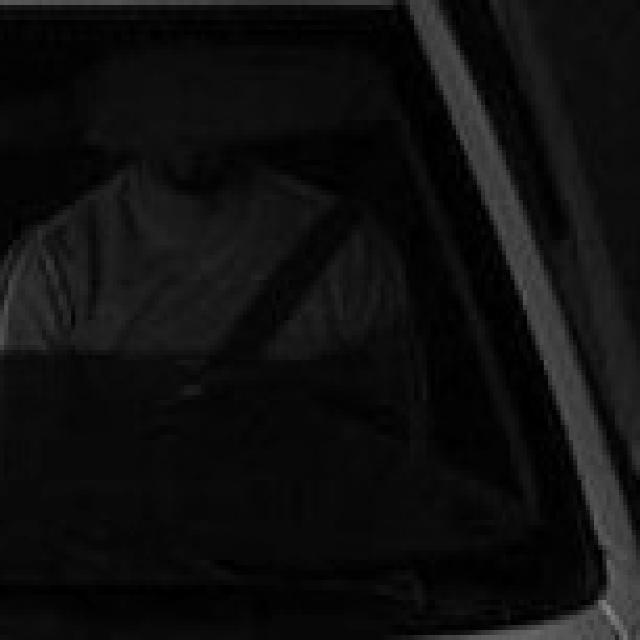Seatbelt: (217, 155, 385, 340)
